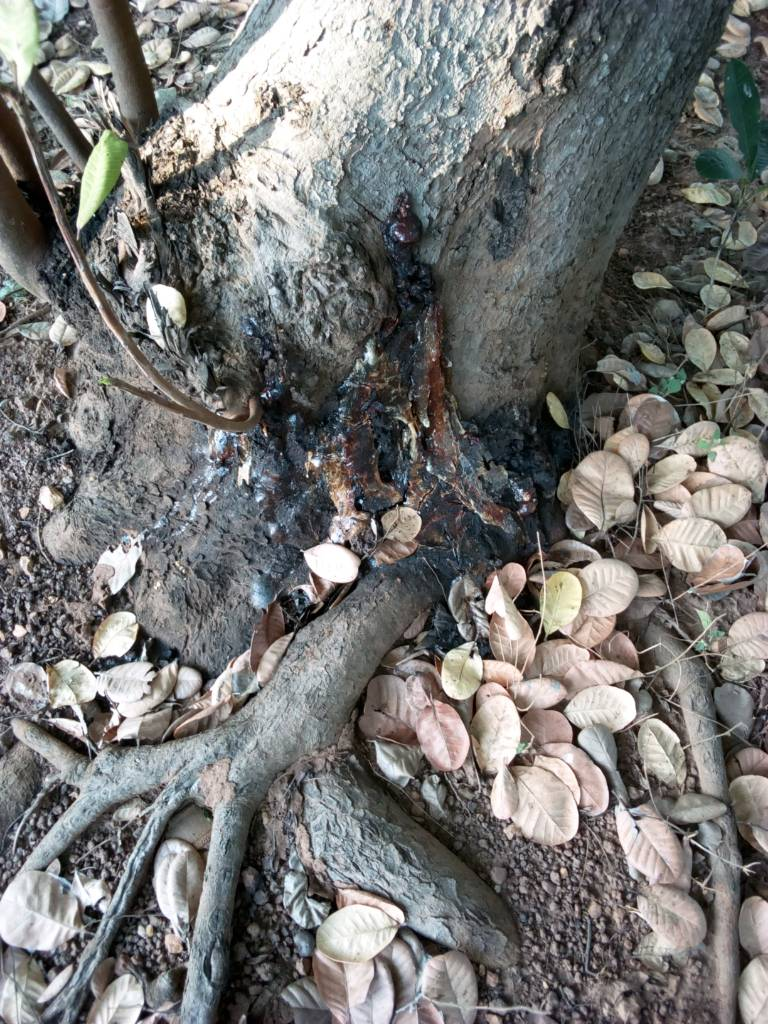Gommose: (274, 221, 540, 532)
